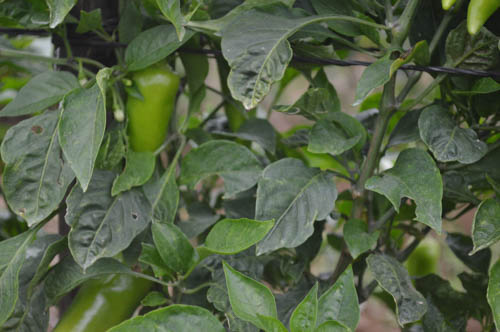ChiliPepper: (52, 269, 149, 330), (128, 69, 178, 162)
